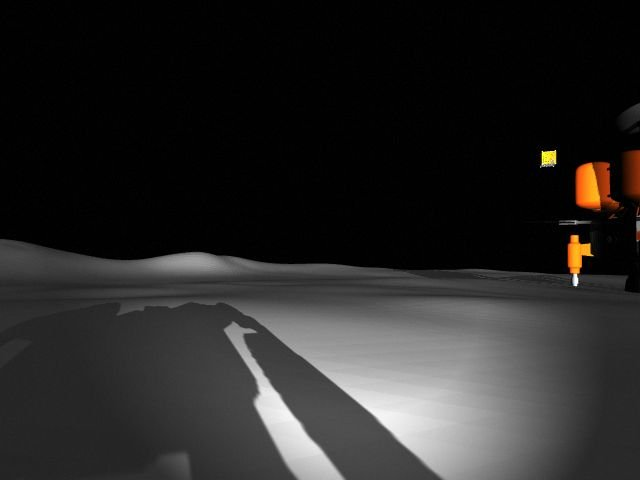cubesat: (531, 148, 561, 168)
